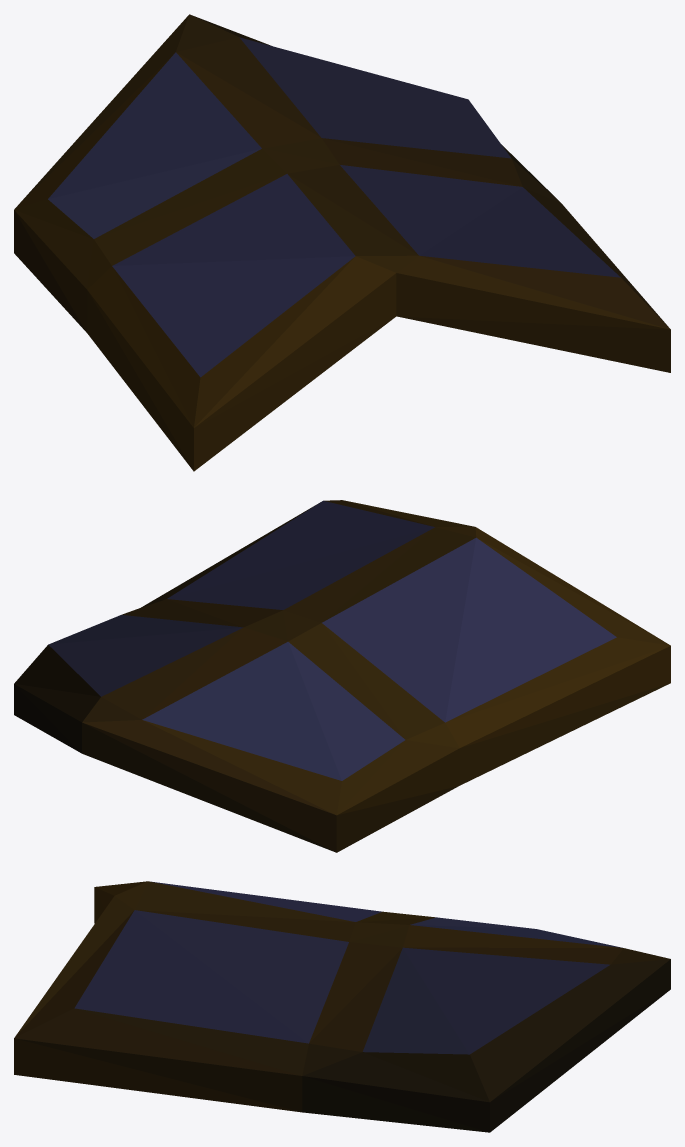
The model's file is mithril-kiteshield.obj.
3 views of the same model, one above another, from view 1: azimuth 30°, elevation 25°; view 2: azimuth 150°, elevation 25°; view 3: azimuth 270°, elevation 25° (orthographic). The views are drawn at different scales.
Visible parts, largest first — view 1: Item Mithril kiteshield 2026-09-24_18-14-08; view 2: Item Mithril kiteshield 2026-09-24_18-14-08; view 3: Item Mithril kiteshield 2026-09-24_18-14-08.
Boxes of the visible parts, x1,y1,x2,y2 form: Item Mithril kiteshield 2026-09-24_18-14-08: (14,14,670,471); Item Mithril kiteshield 2026-09-24_18-14-08: (14,500,670,852); Item Mithril kiteshield 2026-09-24_18-14-08: (14,881,670,1132).
Size of the model in its own units: 76 by 22 by 98.
